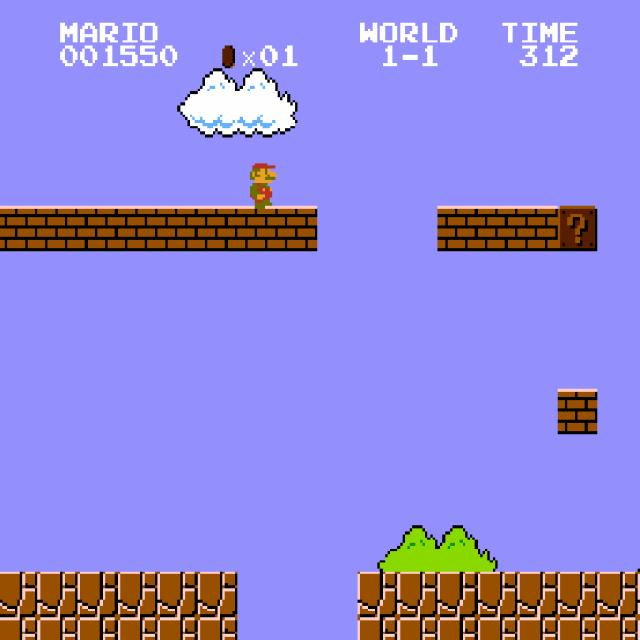brick_block: (37, 206, 78, 251), (77, 206, 118, 251), (117, 206, 158, 251), (157, 206, 198, 251), (197, 206, 238, 251), (237, 206, 278, 251), (277, 206, 318, 251), (437, 206, 478, 251), (477, 206, 518, 251), (517, 206, 558, 251), (557, 389, 598, 434), (0, 206, 37, 251)
little_mario: (240, 160, 282, 208)
mystery_block: (557, 206, 598, 251)
undestructible_block: (37, 572, 78, 617), (77, 572, 118, 617), (117, 572, 158, 617), (157, 572, 198, 617), (197, 572, 238, 617), (357, 572, 398, 617), (397, 572, 438, 617), (437, 572, 478, 617), (477, 572, 518, 617), (517, 572, 558, 617), (557, 572, 598, 617), (597, 572, 638, 617), (0, 572, 37, 617), (37, 617, 78, 640), (77, 617, 118, 640), (117, 617, 158, 640), (157, 617, 198, 640), (197, 617, 238, 640), (357, 617, 398, 640), (397, 617, 438, 640), (437, 617, 478, 640), (477, 617, 518, 640), (517, 617, 558, 640), (557, 617, 598, 640), (597, 617, 638, 640), (0, 617, 37, 640), (637, 571, 640, 617), (637, 617, 640, 639)
